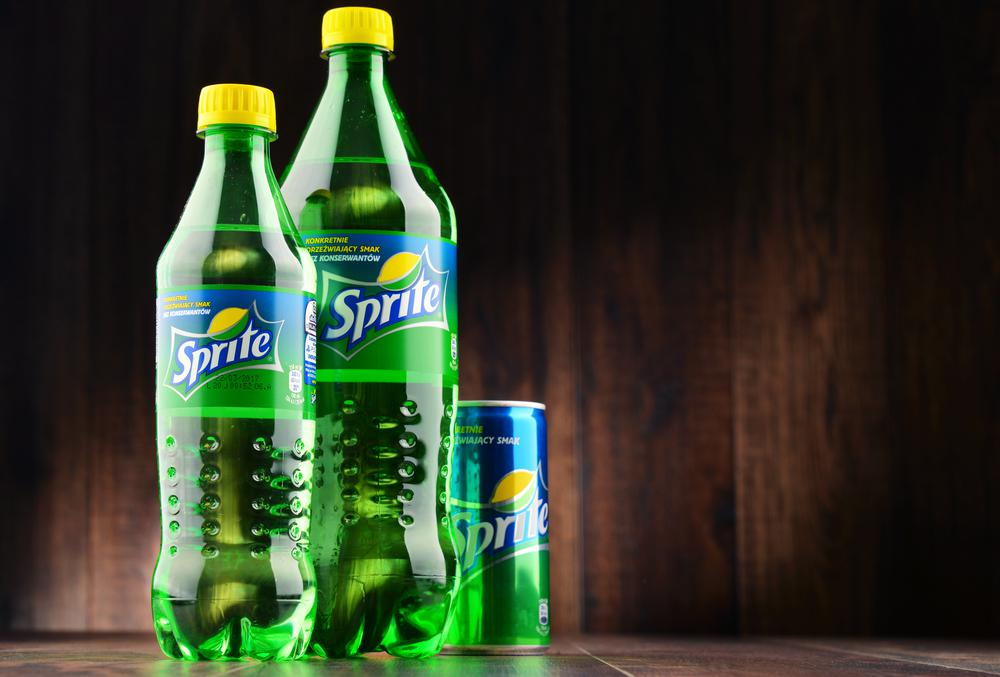sprite: (324, 268, 438, 343), (452, 491, 546, 565), (171, 320, 270, 385)
